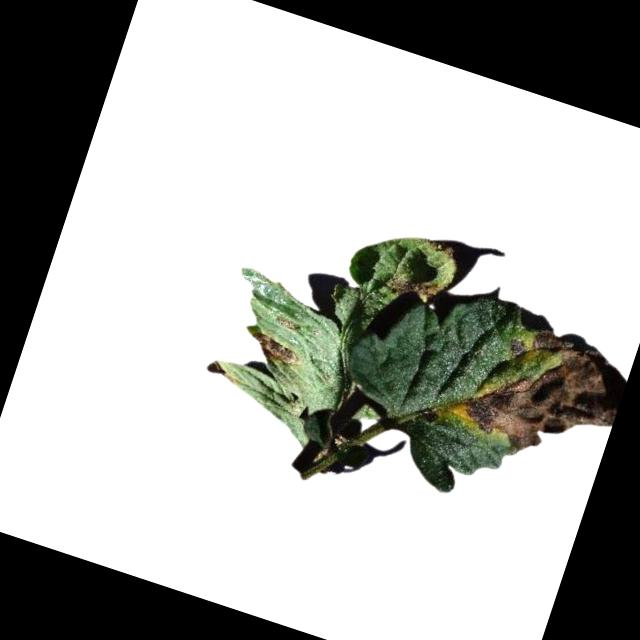Early_blight: (442, 310, 632, 478), (249, 327, 306, 367), (387, 268, 442, 305), (272, 310, 302, 333), (425, 239, 455, 260)
